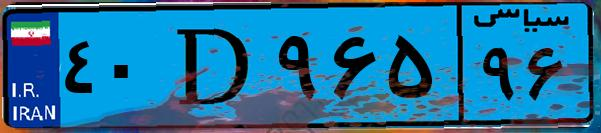0: (110, 28, 158, 98)
4: (57, 26, 110, 100)
5: (385, 28, 445, 110)
6: (330, 28, 385, 110), (525, 38, 570, 115)
9: (270, 28, 330, 110), (475, 38, 525, 113)
D: (158, 12, 270, 120)
